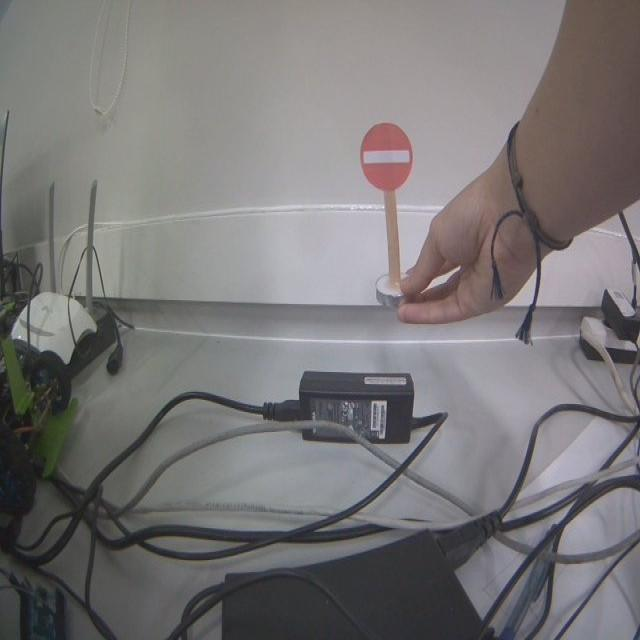Dilarang Masuk: (359, 123, 412, 189)
